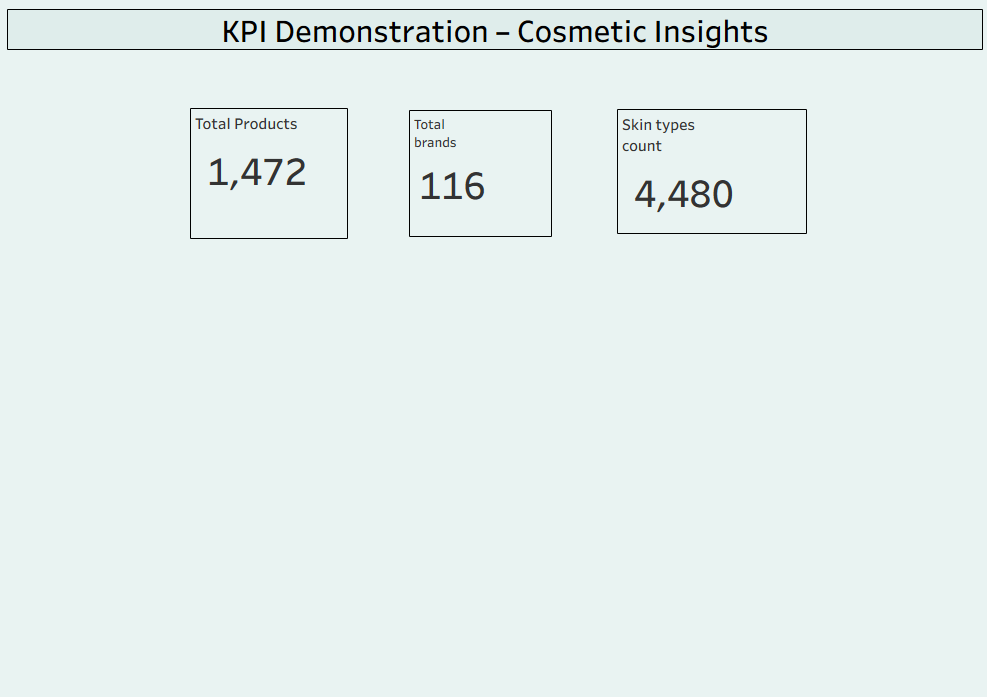

Layout of this report page (visuals, bound fields, positions):
{"tool":"tableau","page":{"name":"Dashboard - KPI Demonstration","canvas":[1000,800],"ordinal":1},"visuals":[{"type":"title","box":[8,8,984,49]},{"type":"worksheet","title":"Total Products","mark":"Automatic","box":[195,111,158,131]},{"type":"worksheet","title":"All Skin types count","mark":"Automatic","box":[622,112,190,125]},{"type":"worksheet","title":"Total brands","mark":"Automatic","box":[414,113,143,127]}]}

Visuals, with their boxes on the page's 1000x800 design canvas (x1, y1, x2, y2). These are canvas units, not pixel positions in the 987x697 screenshot, which may show the page scaled, cropped or inside an application window:
title: [8, 8, 992, 57]
"Total Products" worksheet: [195, 111, 353, 242]
"All Skin types count" worksheet: [622, 112, 812, 237]
"Total brands" worksheet: [414, 113, 557, 240]
